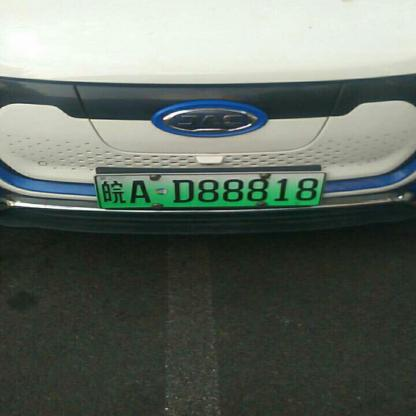lp: (96, 172, 324, 206)
